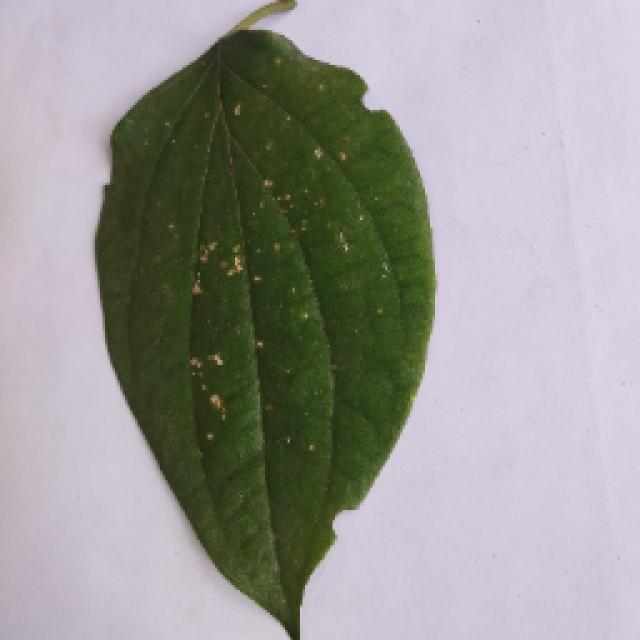pollu-disease: (92, 12, 432, 632)
